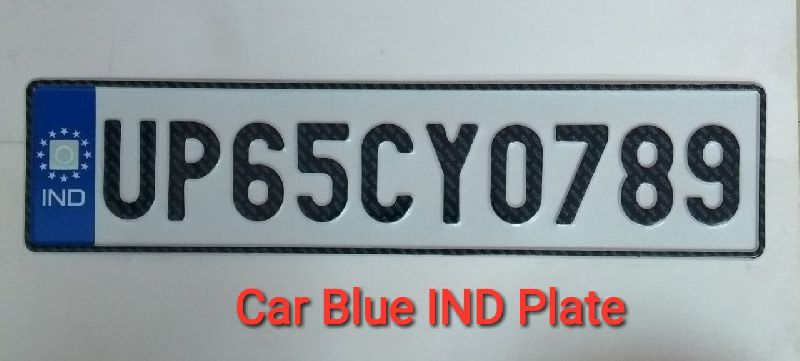number_plate: (23, 78, 766, 260)
